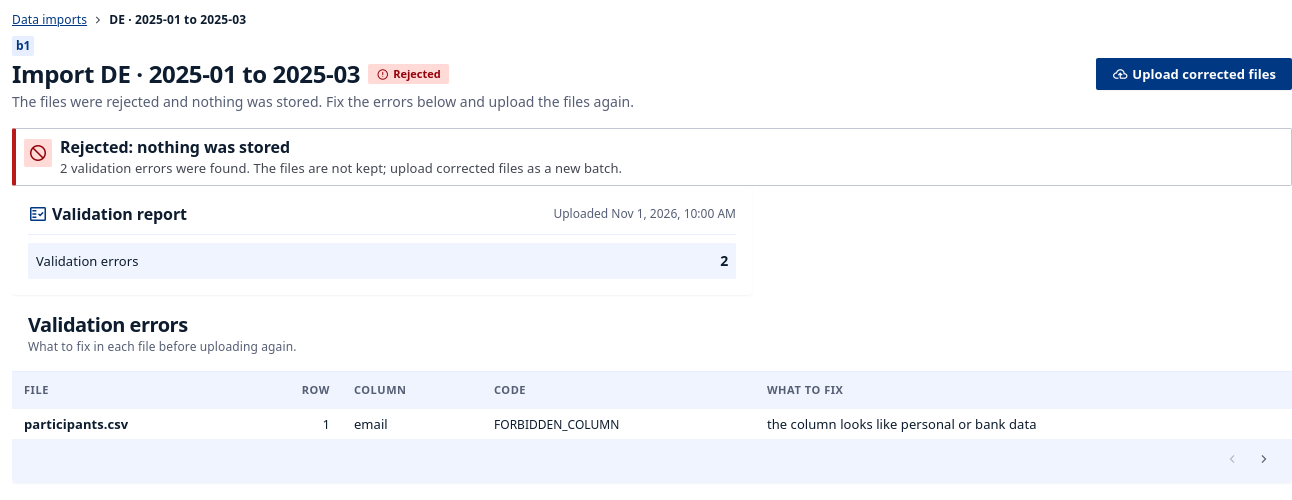
Test: BatchDetail › shows a rejected batch with its paged validation errors
The width and height of the screenshot is (1292, 500).
expect the text "Rejected: nothing was stored" is shown: met, box [60,136,290,158]
expect the link "Upload corrected files" is shown: met, box [1096,58,1291,90]
Click the button named "Next page" at {"x": 1264, "y": 460}, box [1252,446,1276,474]
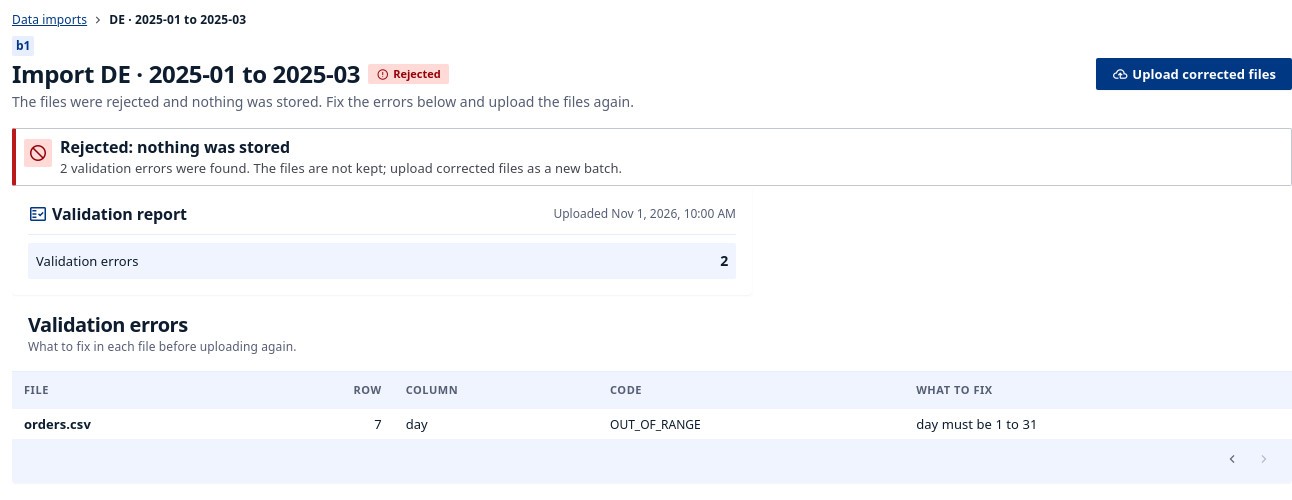
expect the text "OUT_OF_RANGE" is shown: met, box [610,416,701,432]
